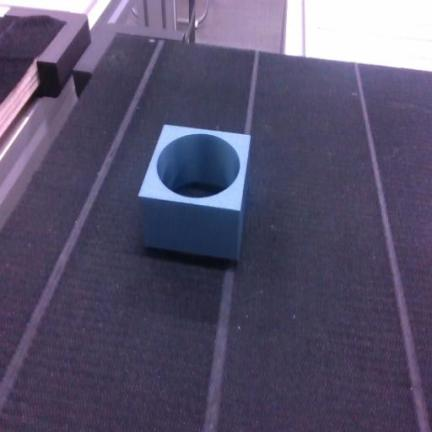square: (139, 125, 249, 259)
